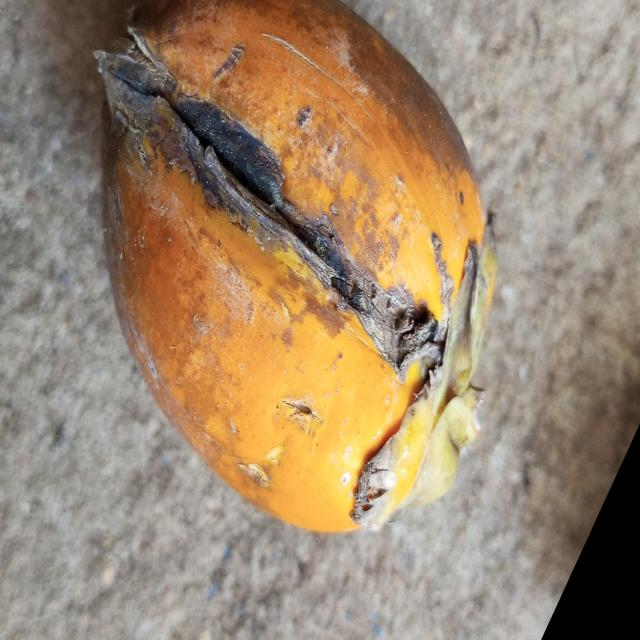damaged: (91, 0, 499, 538)
